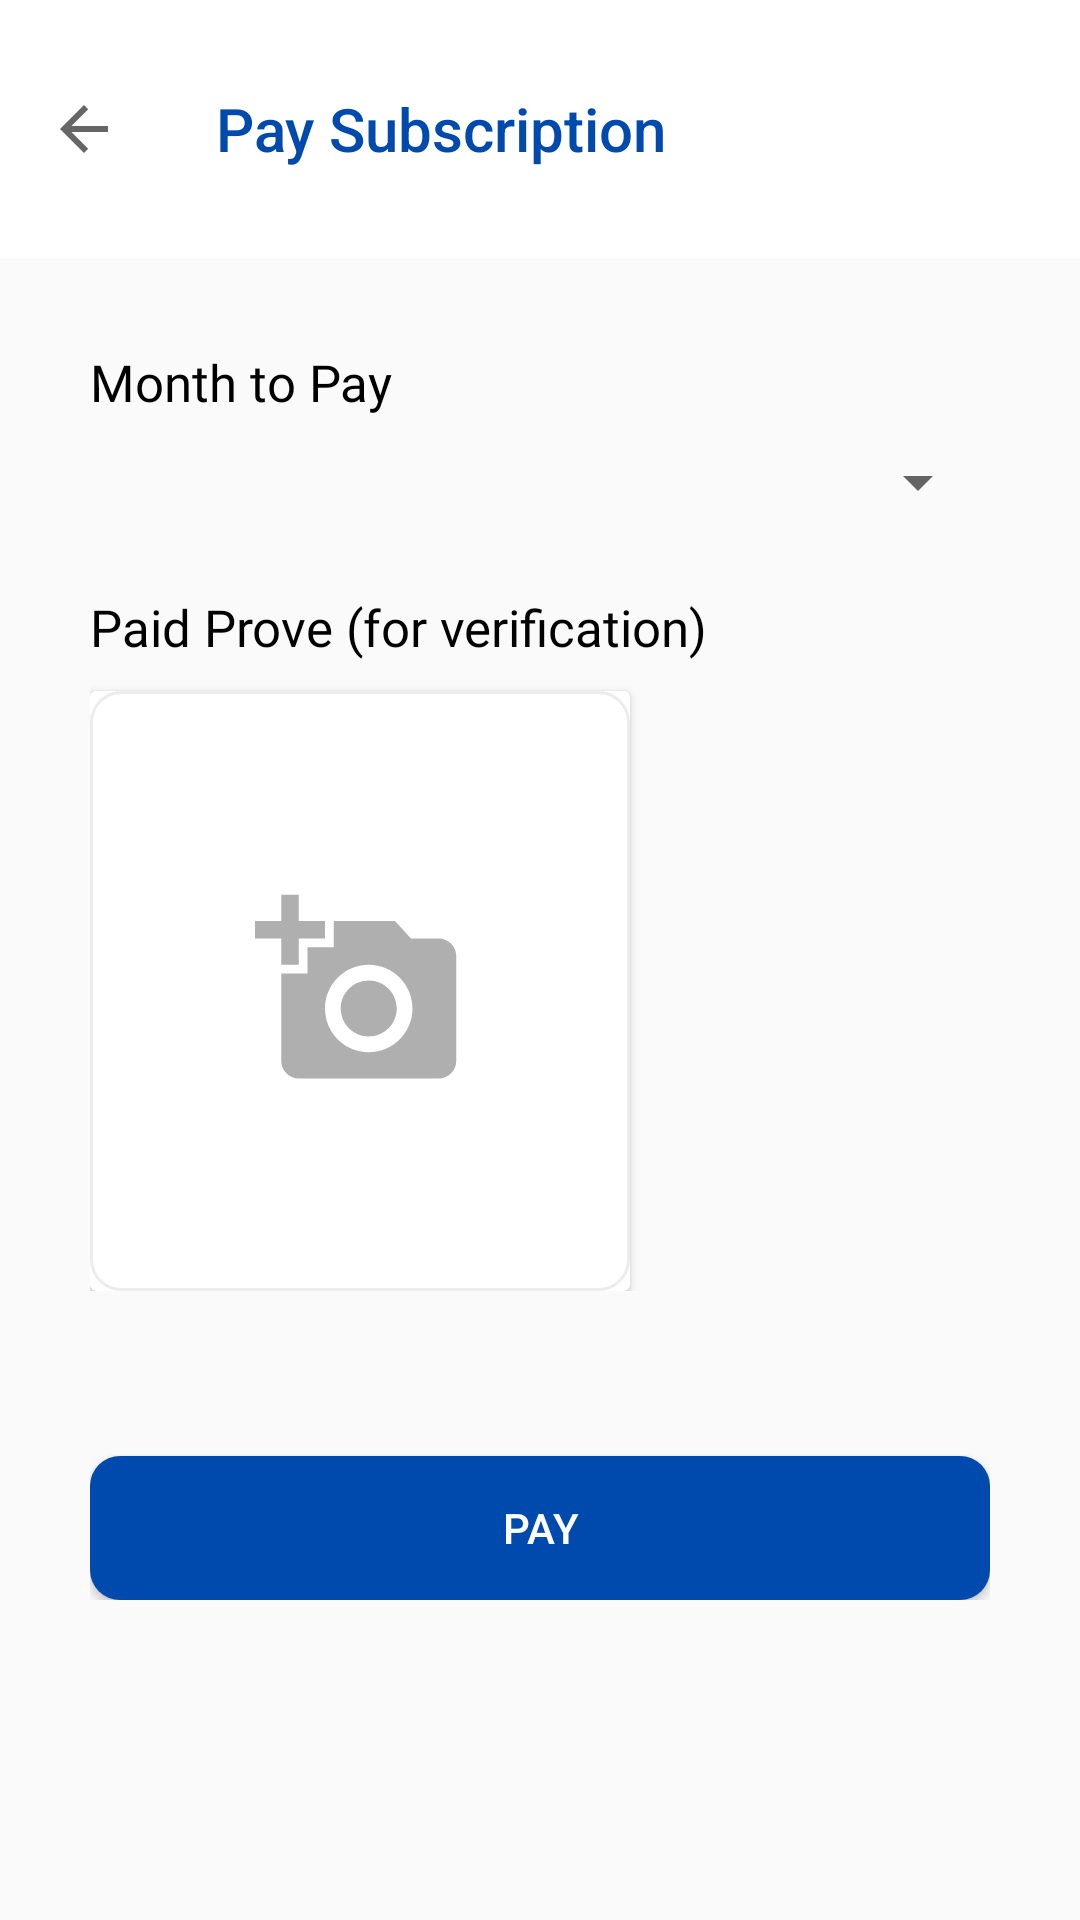

Named icons in this screenshot (1080*1920) and their centers, (x=x, y=y):
add photo: (x=355, y=986)
